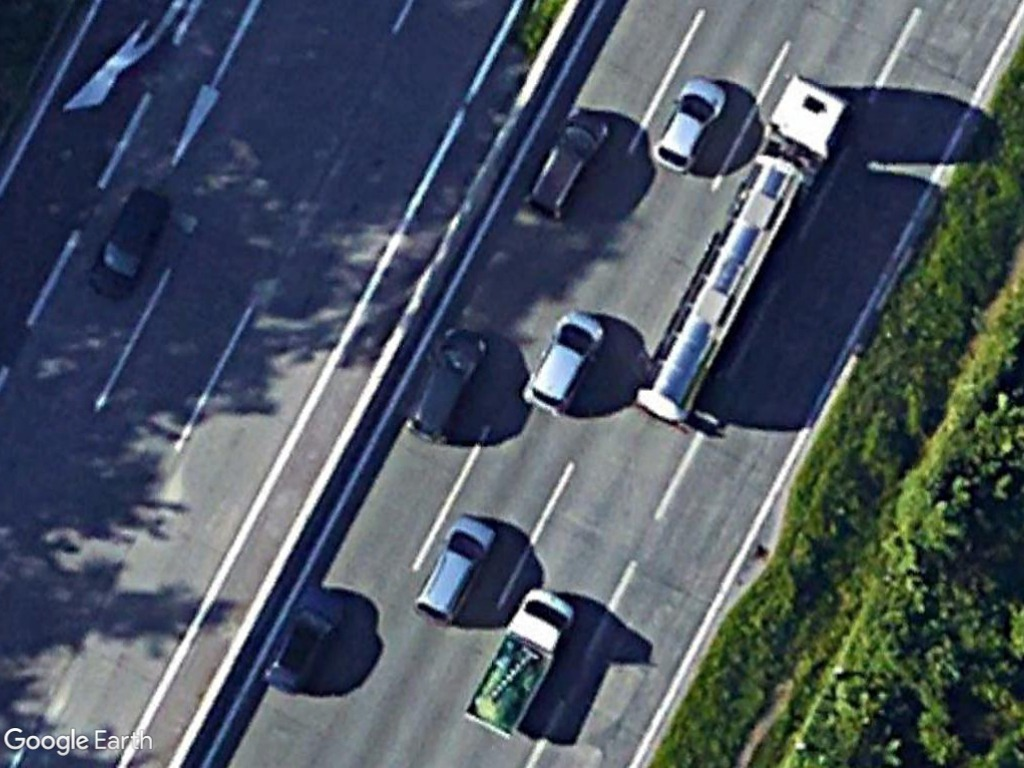car: (81, 182, 175, 308), (517, 102, 614, 223), (254, 578, 346, 700), (403, 321, 493, 445), (413, 511, 502, 627), (521, 305, 610, 414), (648, 68, 733, 179)
